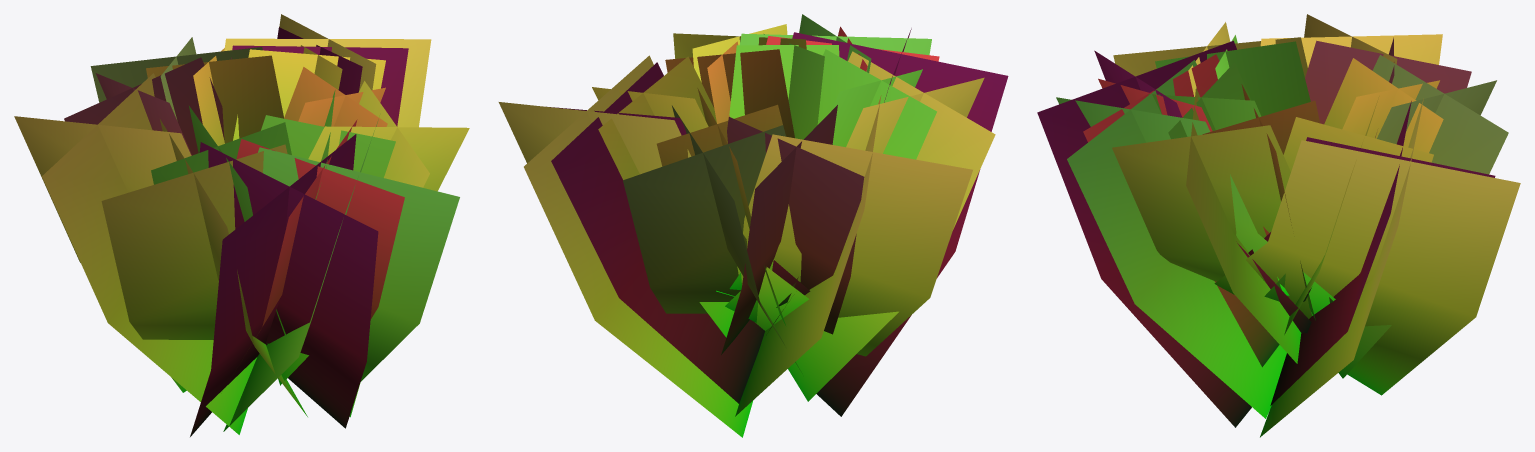
The model's file is bush.obj.
3 renders of one model, left to right at view 1: azimuth 30°, elevation 25°; view 2: azimuth 150°, elevation 25°; view 3: azimuth 270°, elevation 25°, orthographic.
Parts seen in each view (by area): view 1: tree; view 2: tree; view 3: tree.
Part boxes in pixels (<box>): tree: <box>14,14,469,436</box>; tree: <box>498,14,1008,437</box>; tree: <box>1037,14,1520,437</box>.
Size of the model in its own units: 27.64 by 20.31 by 27.03.
